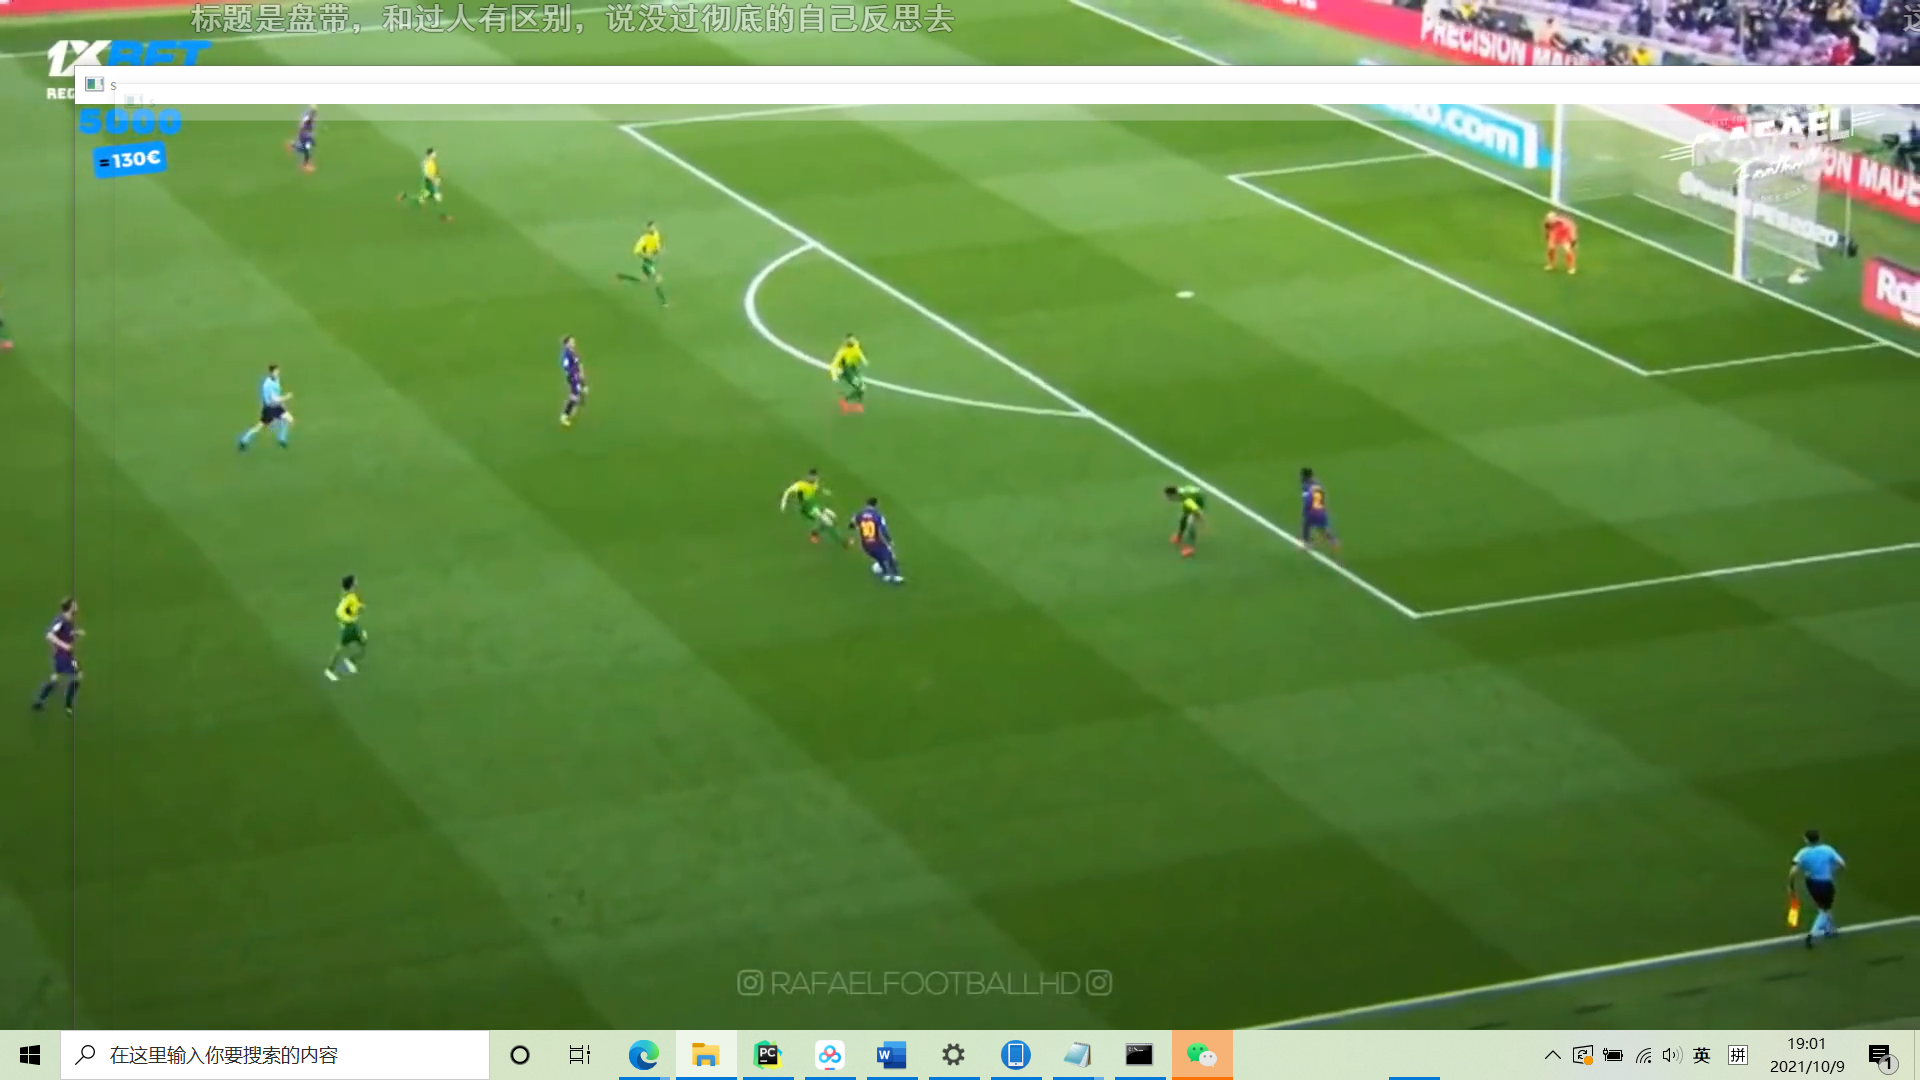ft: (870, 560, 887, 576)
